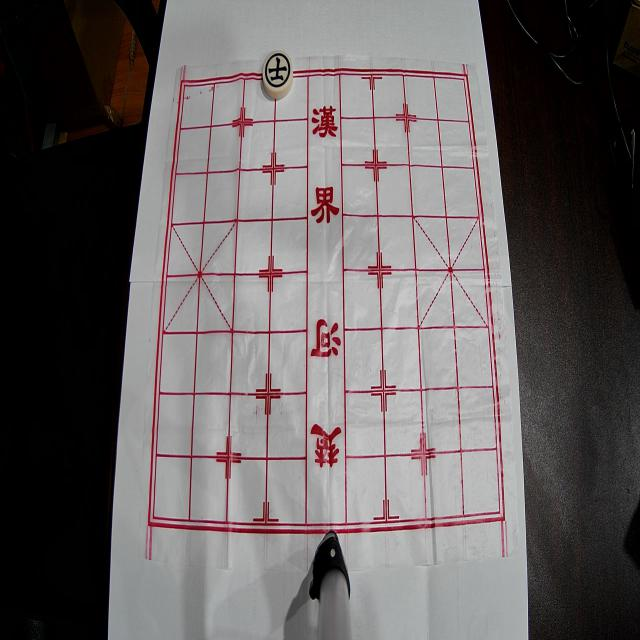black-guard: (263, 50, 293, 99)
